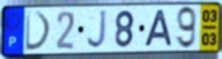2: (55, 10, 76, 51)
8: (114, 9, 136, 50)
9: (175, 5, 198, 51)
A: (143, 9, 174, 49)
D: (24, 10, 53, 53)
J: (86, 9, 108, 51)
